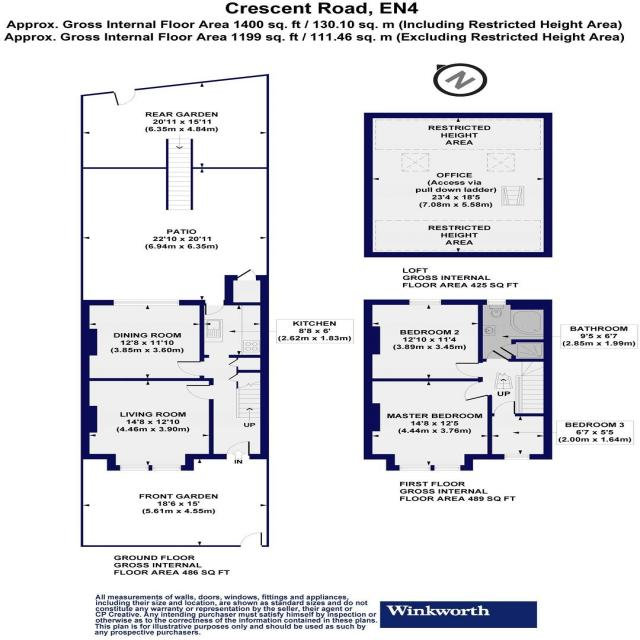DOOR: (463, 380, 492, 401), (226, 441, 251, 460), (185, 384, 214, 400), (454, 362, 483, 378), (176, 361, 205, 376), (113, 89, 136, 106), (492, 401, 517, 416), (240, 532, 262, 547), (204, 303, 225, 315)
ROOM: (175, 302, 270, 460), (81, 378, 214, 471), (363, 378, 492, 471), (80, 300, 204, 381), (364, 299, 483, 382), (487, 401, 553, 460)
WINDOW: (112, 299, 180, 306), (397, 465, 432, 471), (408, 299, 442, 305), (502, 453, 530, 460), (118, 465, 150, 471), (151, 465, 182, 471), (433, 465, 462, 471), (485, 299, 507, 305)
